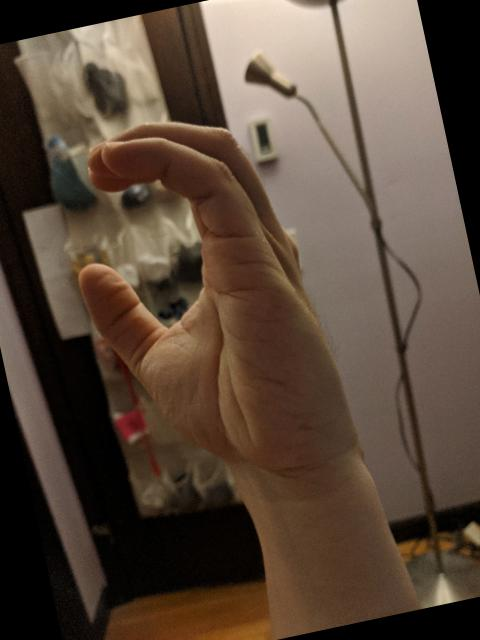C: (41, 86, 374, 530)
